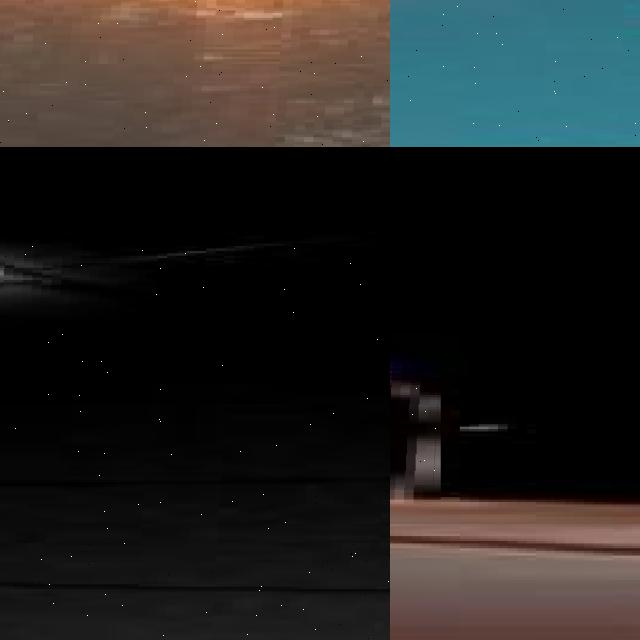street light: (0, 243, 390, 640), (0, 0, 390, 147), (390, 0, 640, 147), (390, 360, 440, 504)
